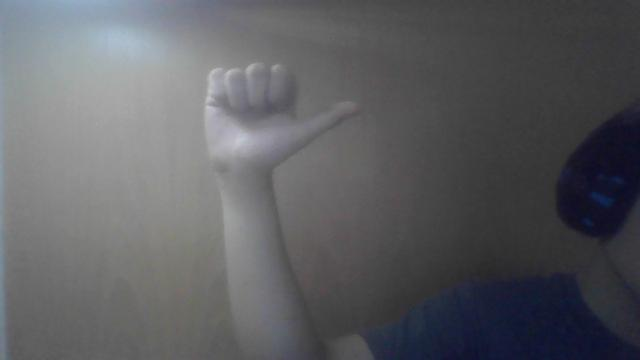left: (194, 55, 366, 173)
